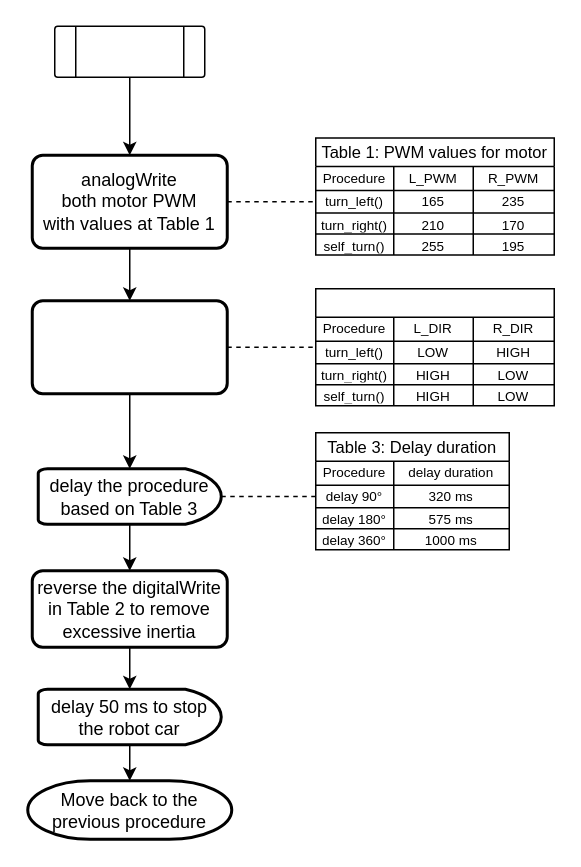
Image size: 581x867. Some labels were removed from this diagram. The box of each missing label's shape, as (x1, y1, x2, y2) in pixels:
Any turning procedures: (53, 25, 205, 77)
digitalWrite both motor DIR with values at Table 2: (30, 298, 228, 394)
Table 2: DIR values for motor: (314, 287, 554, 406)
